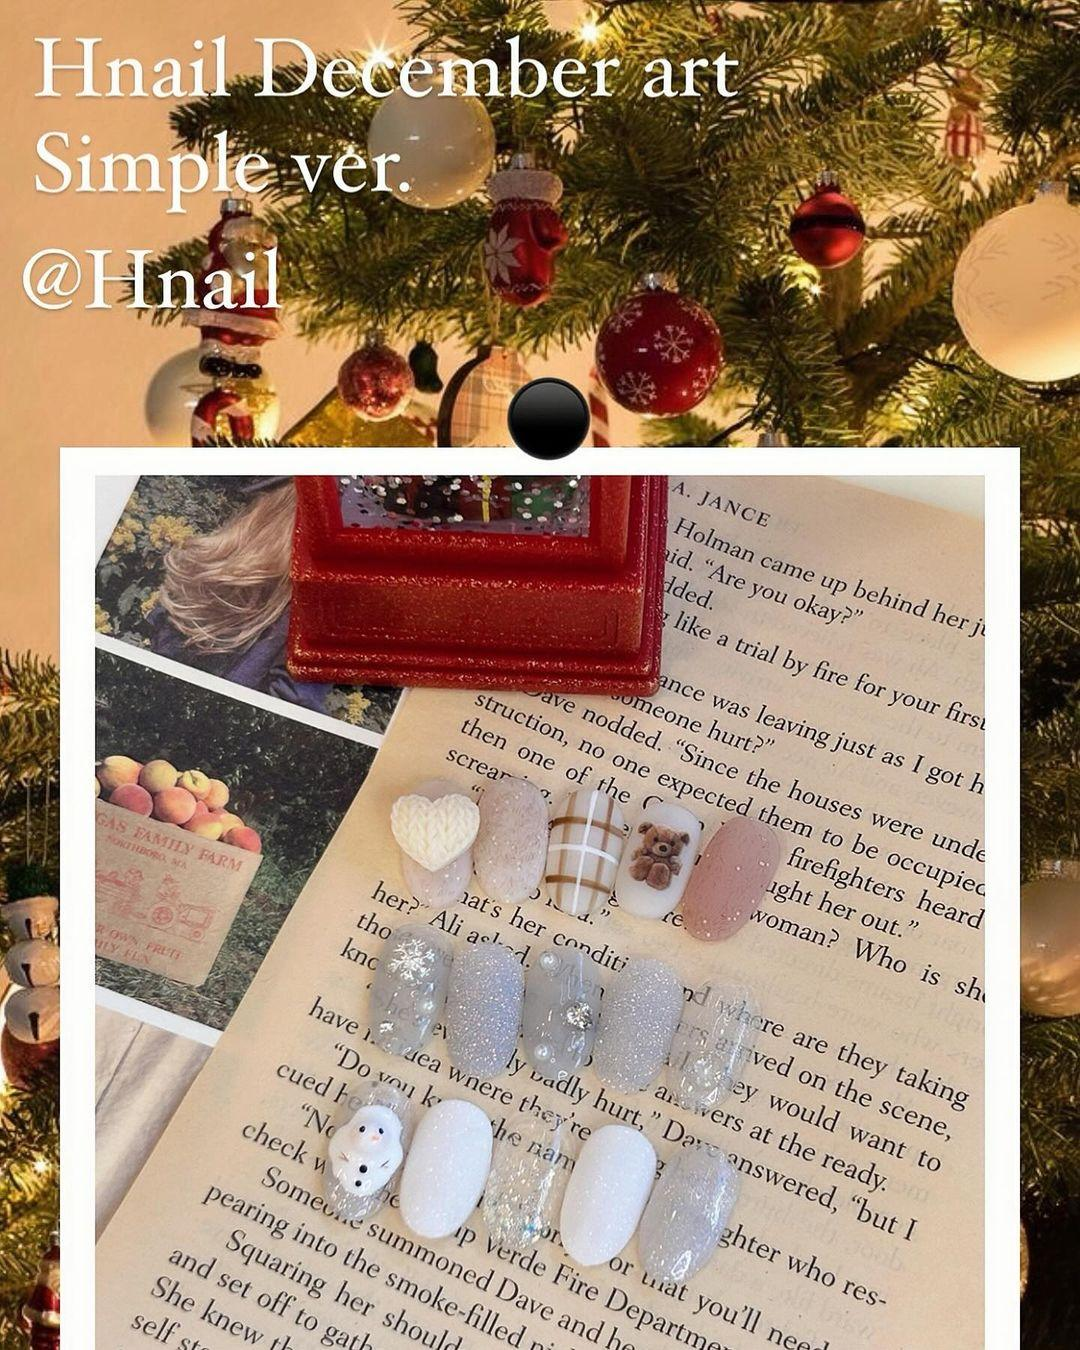nail: (557, 1122, 656, 1266), (397, 1097, 493, 1239), (677, 816, 781, 941)
